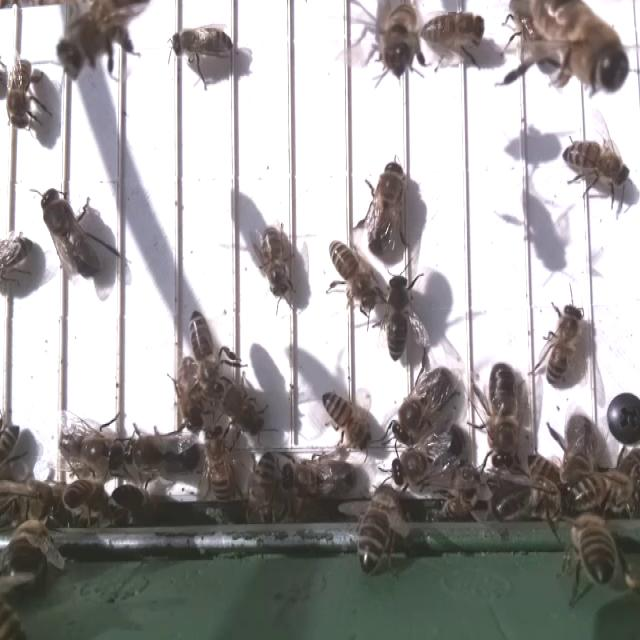Drone: (37, 182, 102, 286), (389, 363, 457, 448), (118, 426, 204, 482), (363, 158, 409, 259), (484, 356, 521, 478)
Worker: (562, 133, 632, 195), (328, 235, 379, 319), (541, 302, 589, 390), (317, 384, 373, 455), (381, 268, 416, 367), (416, 8, 489, 53), (256, 219, 295, 303), (188, 304, 224, 392), (169, 22, 238, 67), (205, 417, 234, 517), (6, 57, 41, 132)
